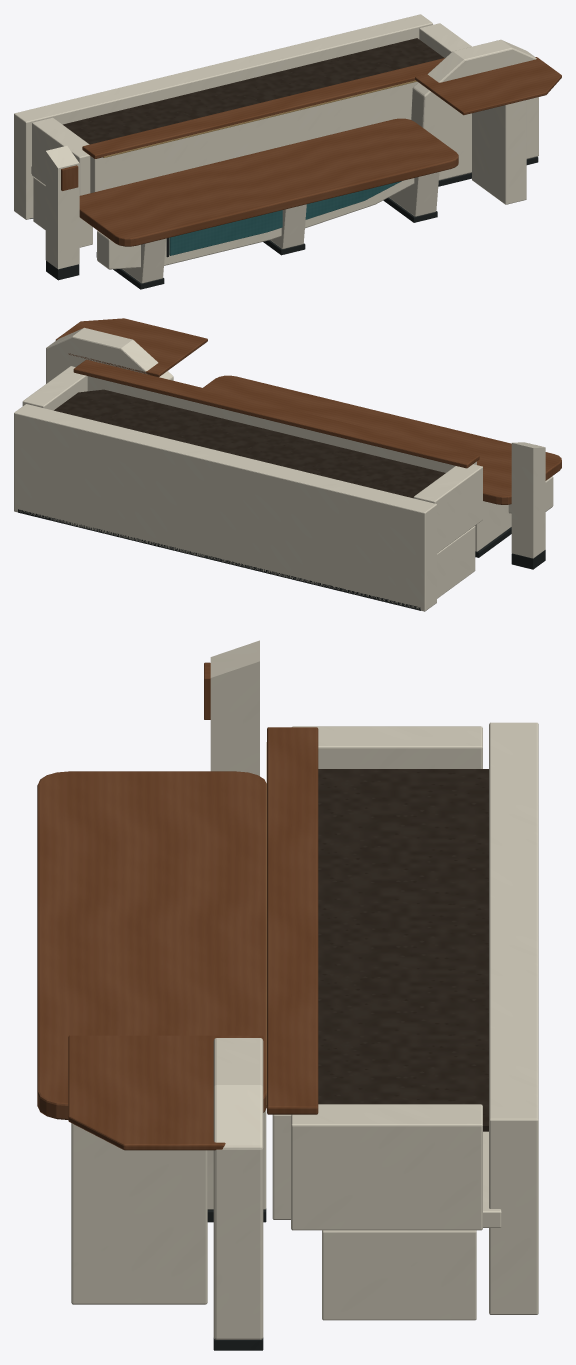
Rendered from AST-SAL-004.glb.
3 renders of one model, top to bottom at view 1: azimuth 30°, elevation 25°; view 2: azimuth 150°, elevation 25°; view 3: azimuth 270°, elevation 25°, orthographic. The views are drawn at different scales.
Visible parts, largest first — view 1: AST-SAL-004__ivory_enamel, AST-SAL-004__warm_walnut, AST-SAL-004__botanical_soil, AST-SAL-004__teal_weave, AST-SAL-004__dark_rubber, AST-SAL-004__champagne_metal; view 2: AST-SAL-004__ivory_enamel, AST-SAL-004__warm_walnut, AST-SAL-004__botanical_soil, AST-SAL-004__dark_rubber; view 3: AST-SAL-004__ivory_enamel, AST-SAL-004__warm_walnut, AST-SAL-004__botanical_soil.
Boxes of the visible parts, x1,y1,x2,y2 form: AST-SAL-004__ivory_enamel: (14,14,538,283); AST-SAL-004__warm_walnut: (61,57,561,246); AST-SAL-004__botanical_soil: (63,38,443,144); AST-SAL-004__teal_weave: (169,181,401,255); AST-SAL-004__dark_rubber: (30,156,538,289); AST-SAL-004__champagne_metal: (103,80,416,157); AST-SAL-004__ivory_enamel: (14,327,553,611); AST-SAL-004__warm_walnut: (55,318,561,504); AST-SAL-004__botanical_soil: (54,389,445,498); AST-SAL-004__dark_rubber: (18,509,545,610); AST-SAL-004__ivory_enamel: (71,640,538,1339); AST-SAL-004__warm_walnut: (37,662,318,1150); AST-SAL-004__botanical_soil: (318,769,488,1131).
Size of the model in its own units: 3.6 by 0.86 by 1.62.
Materials: 6 (6 with a texture image).
